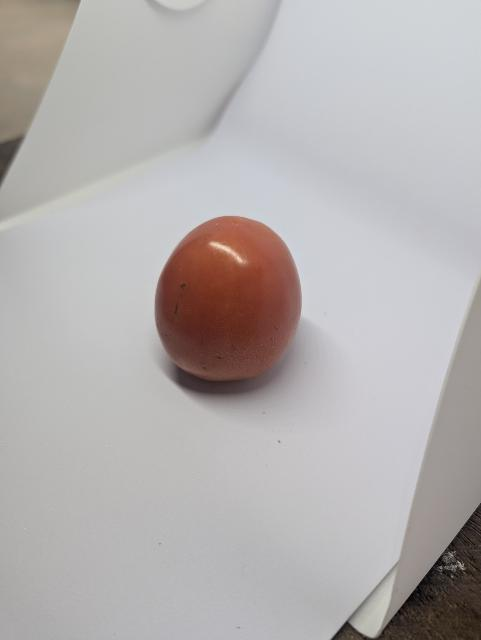red: (152, 214, 305, 396)
